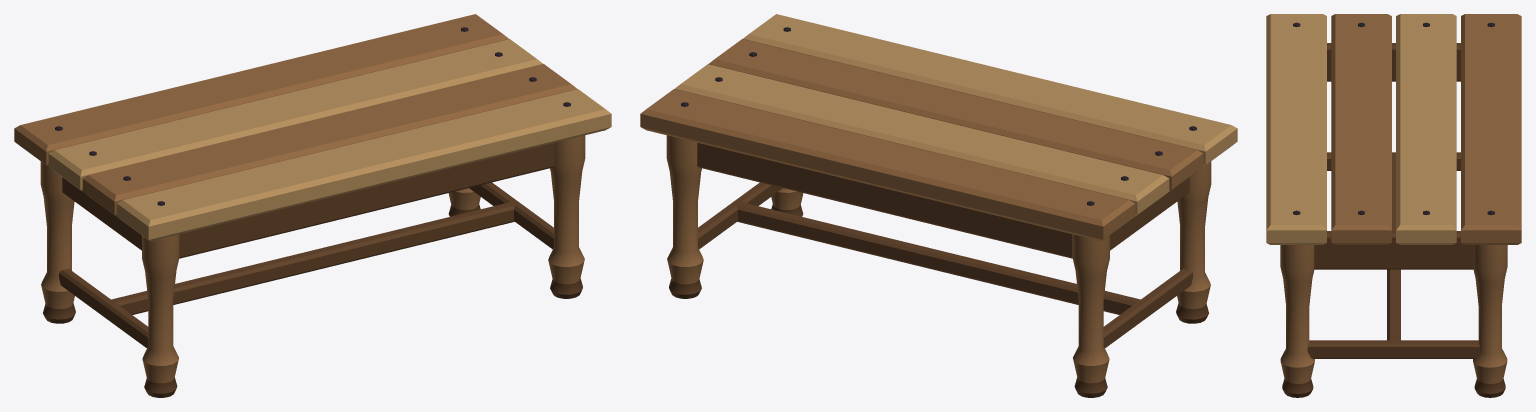
Rendered from Table_13.glb.
The picture shows the model from 3 angles, left to right: view 1: azimuth 30°, elevation 25°; view 2: azimuth 150°, elevation 25°; view 3: azimuth 270°, elevation 25°; orthographic projection. The views are drawn at different scales.
Visible parts, largest first — view 1: Table_13; view 2: Table_13; view 3: Table_13.
Part boxes in pixels (box(x1,y1,x2,y2)): Table_13: box(14, 14, 611, 397); Table_13: box(640, 14, 1237, 397); Table_13: box(1266, 14, 1521, 397).
Size of the model in its own units: 7.28 by 2.87 by 3.66.
